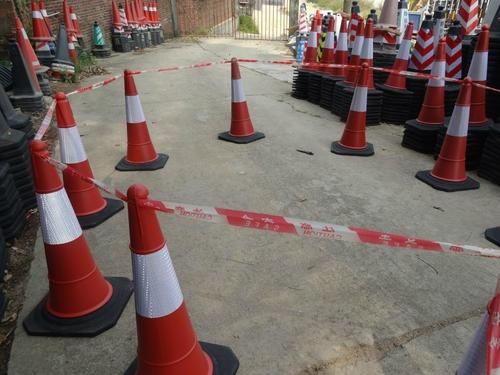cone_barrel: (114, 191, 217, 374), (25, 131, 117, 328), (47, 94, 109, 218), (426, 70, 481, 191), (114, 72, 165, 170), (216, 59, 262, 141), (332, 62, 370, 150), (414, 35, 446, 124), (463, 24, 491, 120), (383, 19, 414, 88), (352, 18, 375, 89), (408, 15, 434, 75), (343, 20, 364, 85), (329, 15, 347, 80), (316, 17, 333, 73), (301, 15, 318, 71)
